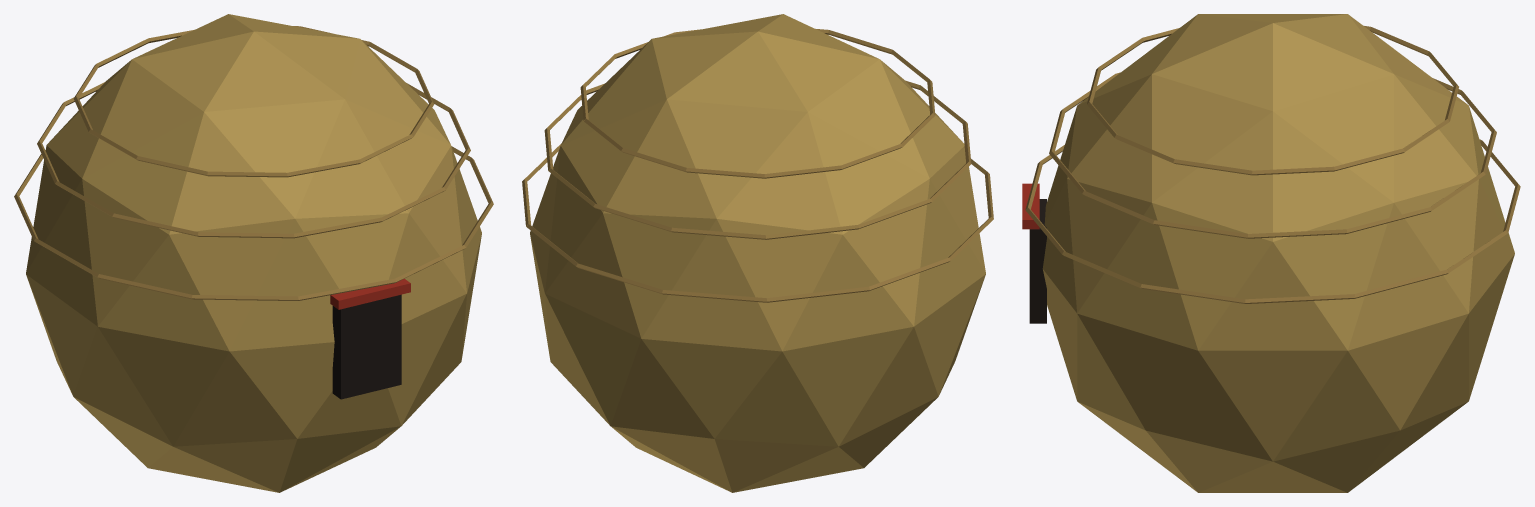
File: elephant_house_a_broken.glb
3 renders of one model, left to right at view 1: azimuth 30°, elevation 25°; view 2: azimuth 150°, elevation 25°; view 3: azimuth 270°, elevation 25°, orthographic. The views are drawn at different scales.
Visible parts, largest first — view 1: elephant_house_a_piece5, elephant_house_a_piece9, elephant_house_a_piece10, elephant_house_a_piece11, elephant_house_a_piece7, elephant_house_a_piece4, elephant_house_a_piece13, elephant_house_a_piece6, elephant_house_a_piece2, elephant_house_a_piece8, elephant_house_a_piece12, elephant_house_a_piece0; view 2: elephant_house_a_piece4, elephant_house_a_piece10, elephant_house_a_piece3, elephant_house_a_piece2, elephant_house_a_piece7, elephant_house_a_piece6, elephant_house_a_piece9, elephant_house_a_piece1, elephant_house_a_piece13, elephant_house_a_piece5, elephant_house_a_piece0; view 3: elephant_house_a_piece6, elephant_house_a_piece3, elephant_house_a_piece5, elephant_house_a_piece7, elephant_house_a_piece8, elephant_house_a_piece2, elephant_house_a_piece1, elephant_house_a_piece11, elephant_house_a_piece13, elephant_house_a_piece9, elephant_house_a_piece10, elephant_house_a_piece0.
Boxes of the visible parts, <box> form: elephant_house_a_piece5: <box>194,83,481,405</box>; elephant_house_a_piece9: <box>121,88,288,457</box>; elephant_house_a_piece10: <box>14,52,195,341</box>; elephant_house_a_piece11: <box>175,319,465,492</box>; elephant_house_a_piece7: <box>87,21,464,220</box>; elephant_house_a_piece4: <box>22,150,182,474</box>; elephant_house_a_piece13: <box>151,58,388,467</box>; elephant_house_a_piece6: <box>304,27,493,280</box>; elephant_house_a_piece2: <box>58,14,383,111</box>; elephant_house_a_piece8: <box>367,186,491,451</box>; elephant_house_a_piece12: <box>152,443,376,490</box>; elephant_house_a_piece0: <box>186,52,443,454</box>; elephant_house_a_piece4: <box>688,274,983,492</box>; elephant_house_a_piece10: <box>764,69,993,292</box>; elephant_house_a_piece3: <box>523,103,668,440</box>; elephant_house_a_piece2: <box>647,36,781,438</box>; elephant_house_a_piece7: <box>667,18,797,222</box>; elephant_house_a_piece6: <box>522,35,667,234</box>; elephant_house_a_piece9: <box>805,30,992,369</box>; elephant_house_a_piece1: <box>622,98,706,480</box>; elephant_house_a_piece13: <box>763,18,908,115</box>; elephant_house_a_piece5: <box>762,14,981,170</box>; elephant_house_a_piece0: <box>777,25,818,74</box>; elephant_house_a_piece6: <box>1133,98,1398,462</box>; elephant_house_a_piece3: <box>1281,100,1519,469</box>; elephant_house_a_piece5: <box>1022,37,1189,369</box>; elephant_house_a_piece7: <box>1111,16,1428,272</box>; elephant_house_a_piece8: <box>1107,240,1311,492</box>; elephant_house_a_piece2: <box>1239,48,1520,209</box>; elephant_house_a_piece1: <box>1238,96,1414,492</box>; elephant_house_a_piece11: <box>1064,359,1131,442</box>; elephant_house_a_piece13: <box>1125,14,1278,455</box>; elephant_house_a_piece9: <box>1118,14,1212,73</box>; elephant_house_a_piece10: <box>1262,14,1449,90</box>; elephant_house_a_piece0: <box>1122,16,1295,478</box>.
Bounding box in the file's own units: 2.86 × 2.94 × 2.88.
